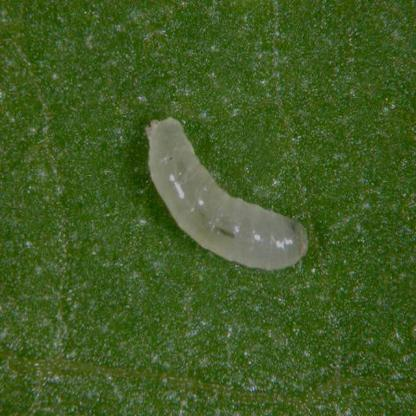whorl-maggot: (140, 108, 312, 282)
